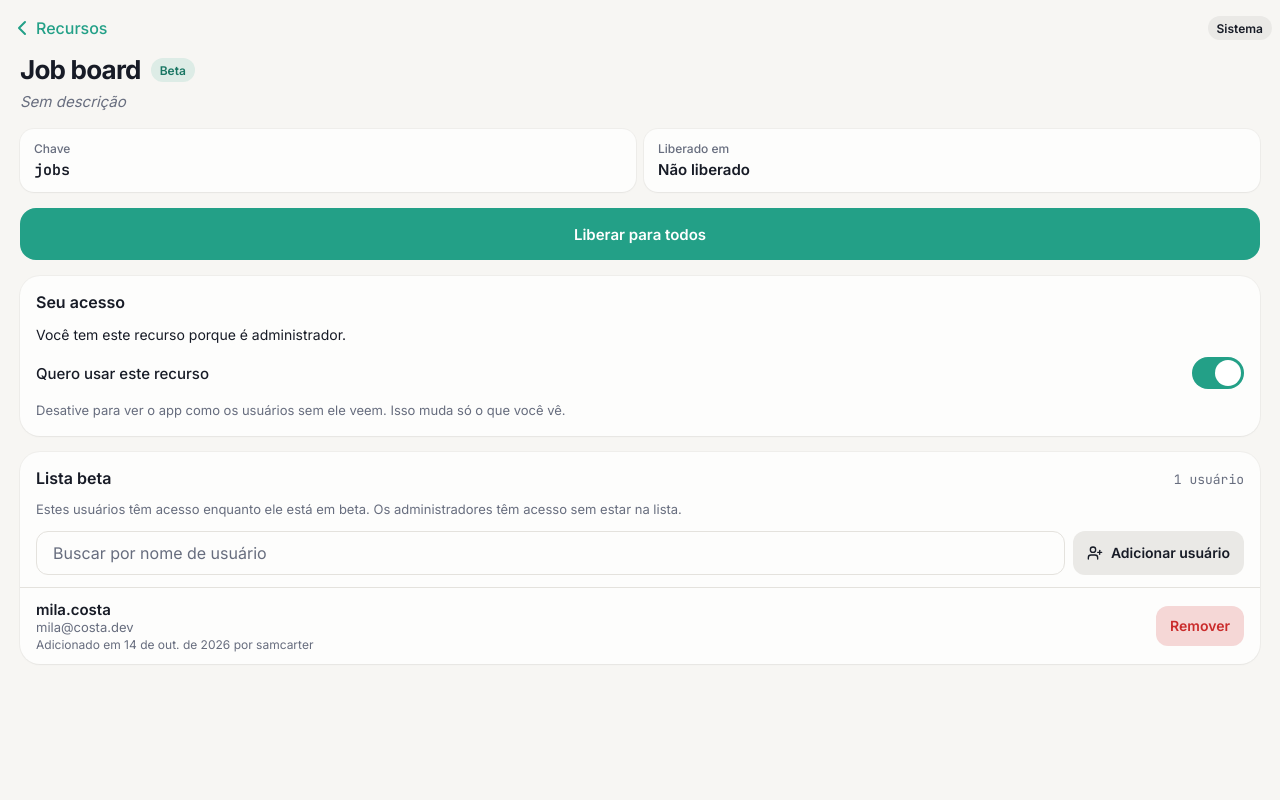
Test: the v3 admin boards in Portuguese below md › a feature, with the stage, remove and Add user sheets open
Expected: the heading "Job board" is shown, [20,56,141,85]
Expected: the text "mila.costa" is shown, [36,600,111,619]
Click the button "Liberar para todos".
click(640, 234)  # box [20,208,1260,260]
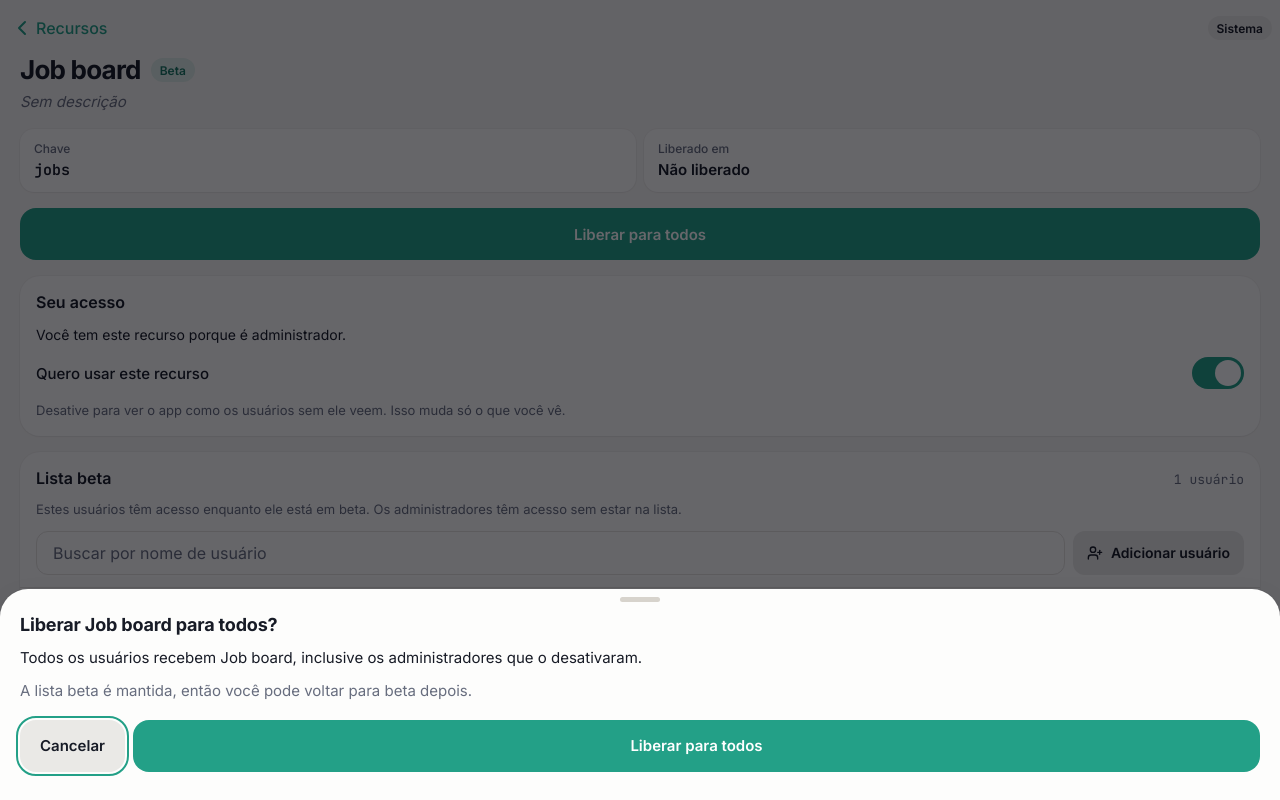
Click the button "Cancelar".
click(72, 746)  # box [20,720,125,772]
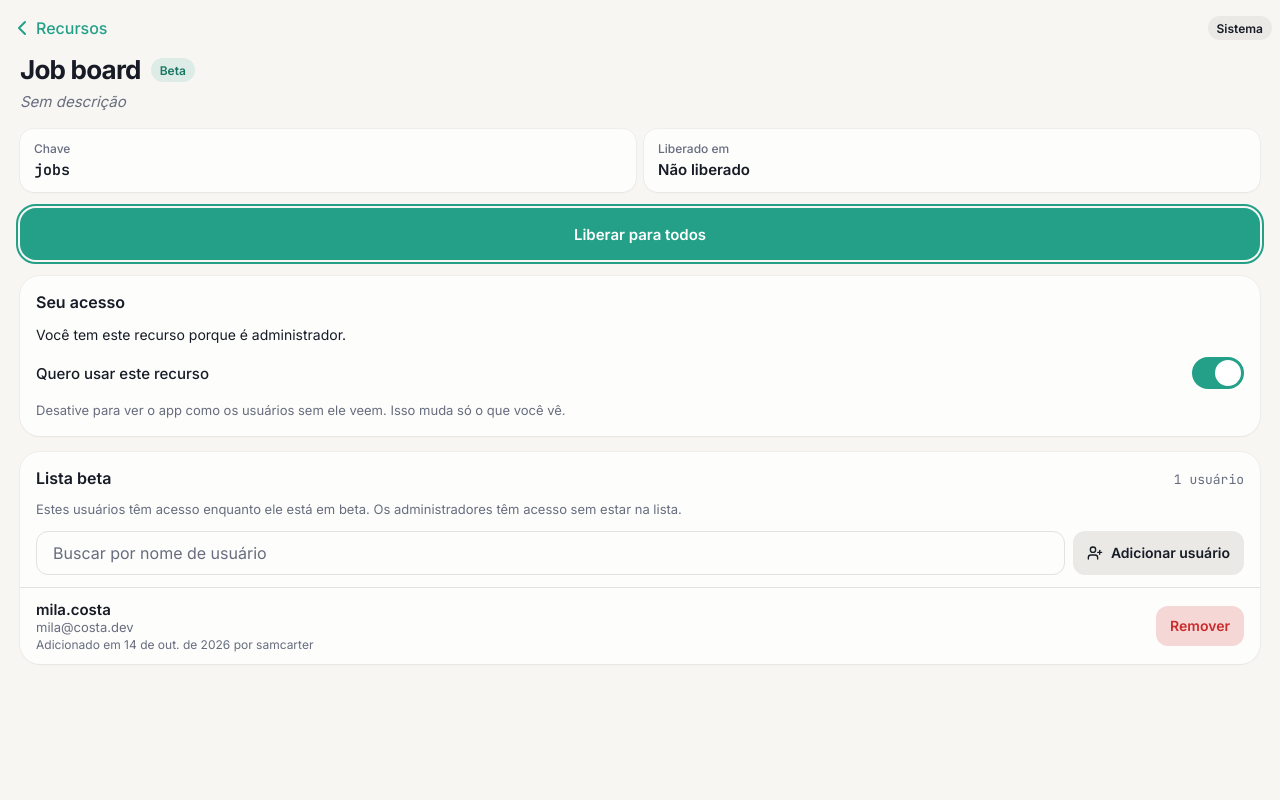
Expected: the dialog is gone
Click the button with aria-label "Remover mila.costa".
click(1200, 626)  # box [1156,604,1244,648]
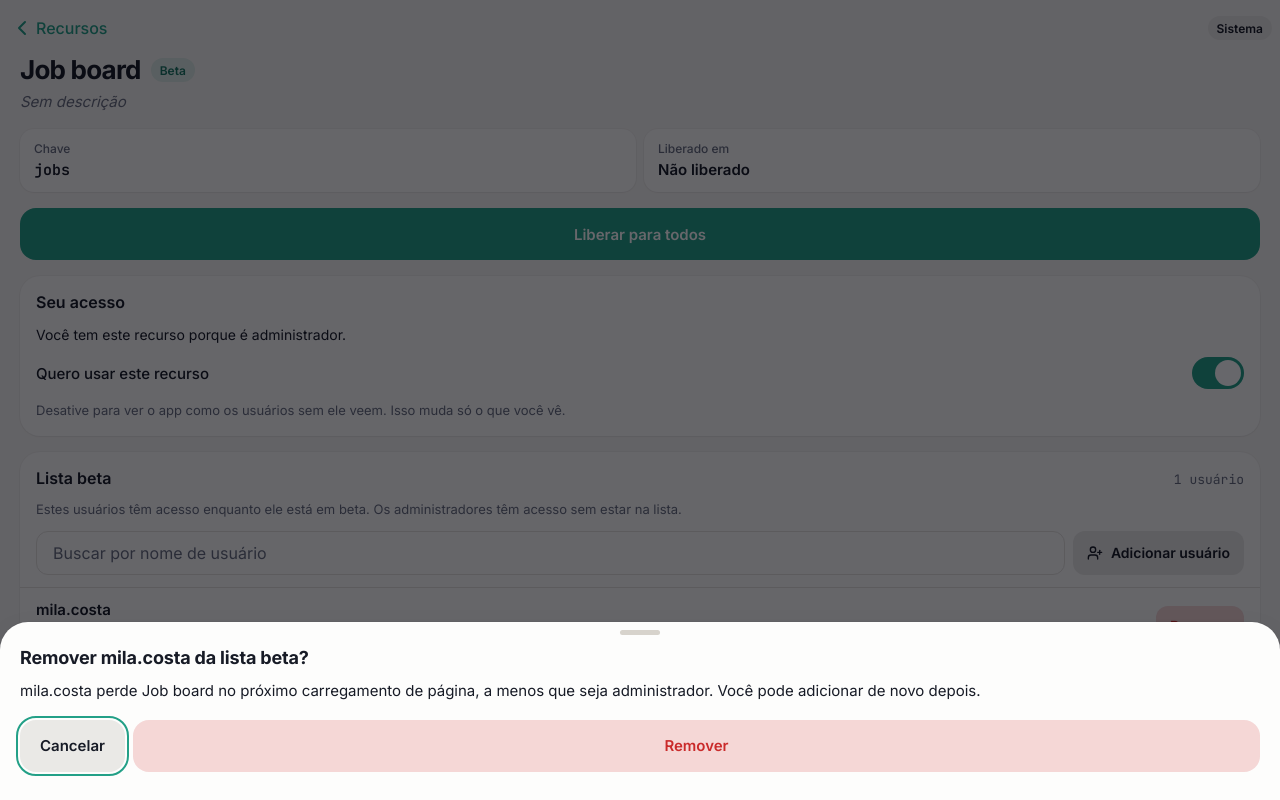
Expected: the button "Remover" is shown, [133,720,1260,772]
Click the button "Cancelar".
click(72, 746)  # box [20,720,125,772]
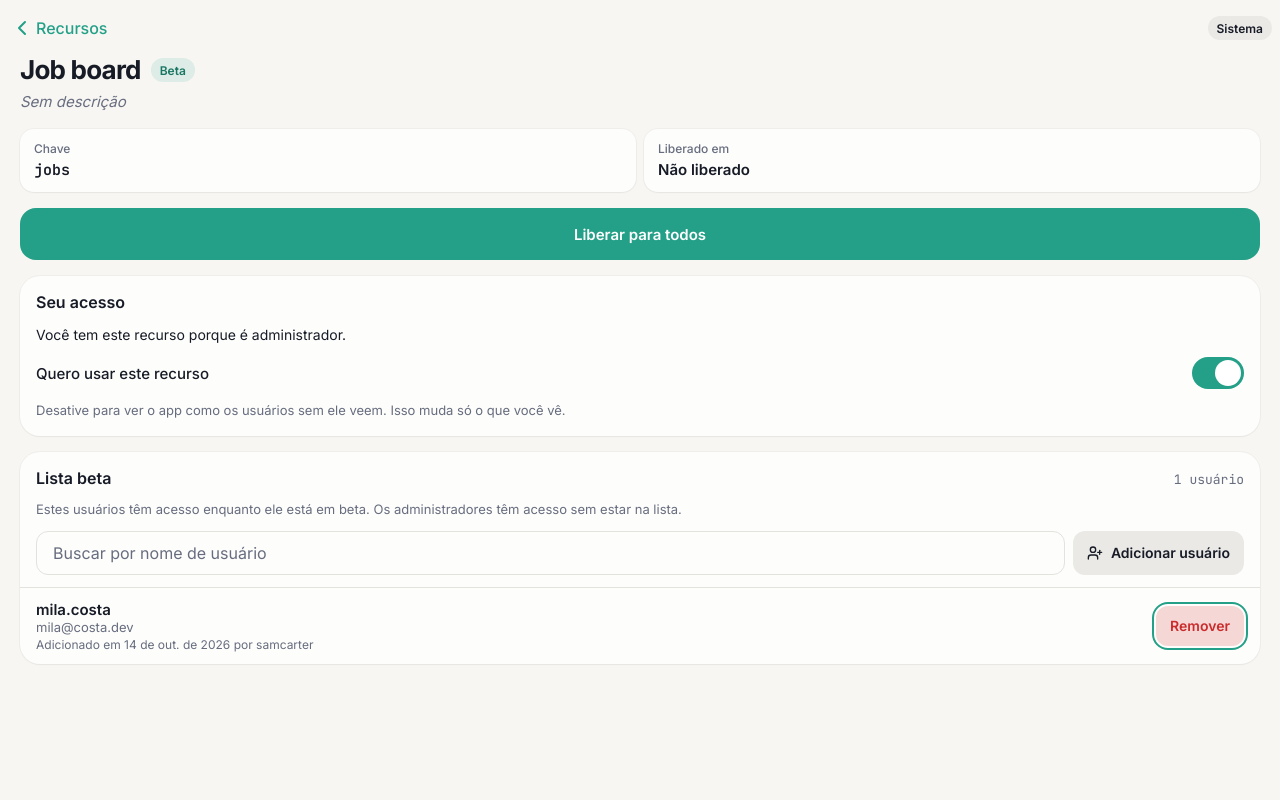
Expected: the dialog is gone
Click the button "Adicionar usuário".
click(1158, 553)  # box [1073,531,1244,575]
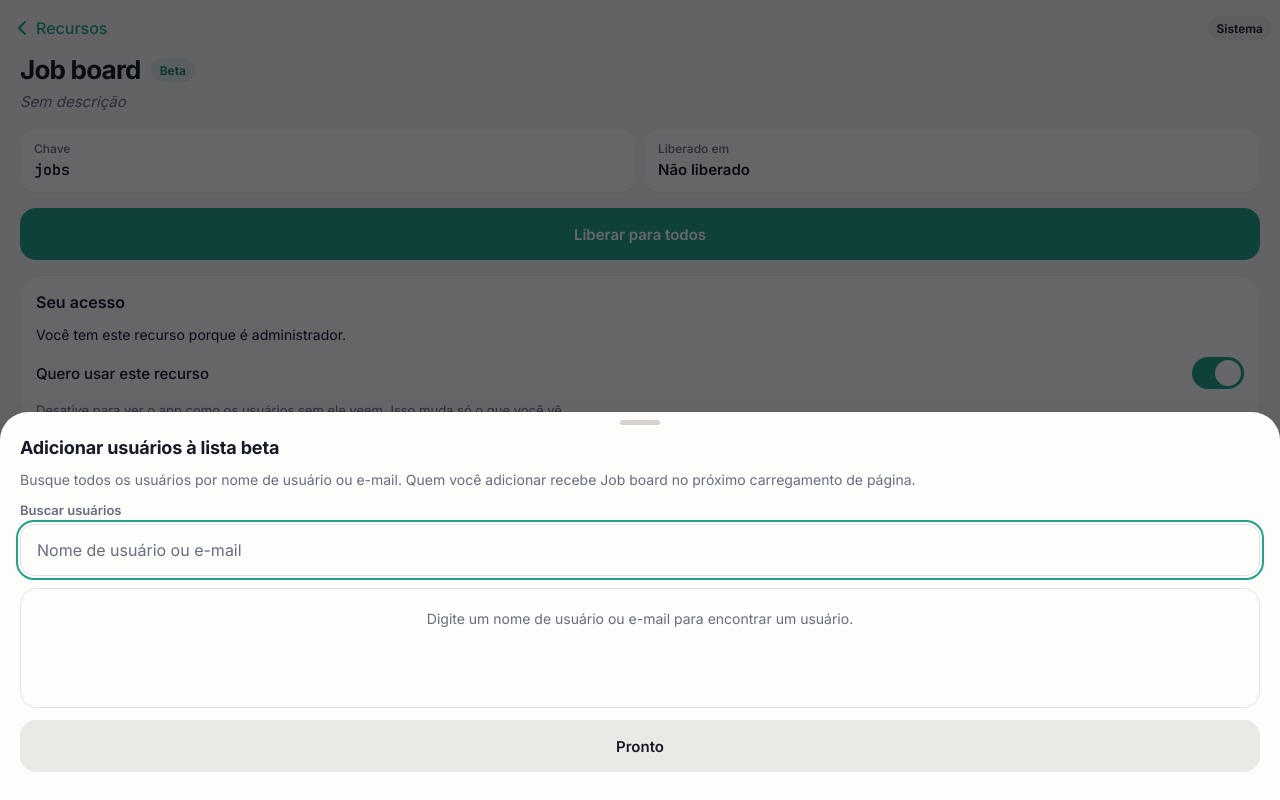
Expected: the text "Digite um nome de usuário ou e-mail para encontrar um usuário." is shown, [427,610,853,627]
Type "sam" into the search field labelled "Buscar usuários".
click(640, 550); type("sam")  # box [20,524,1260,576]
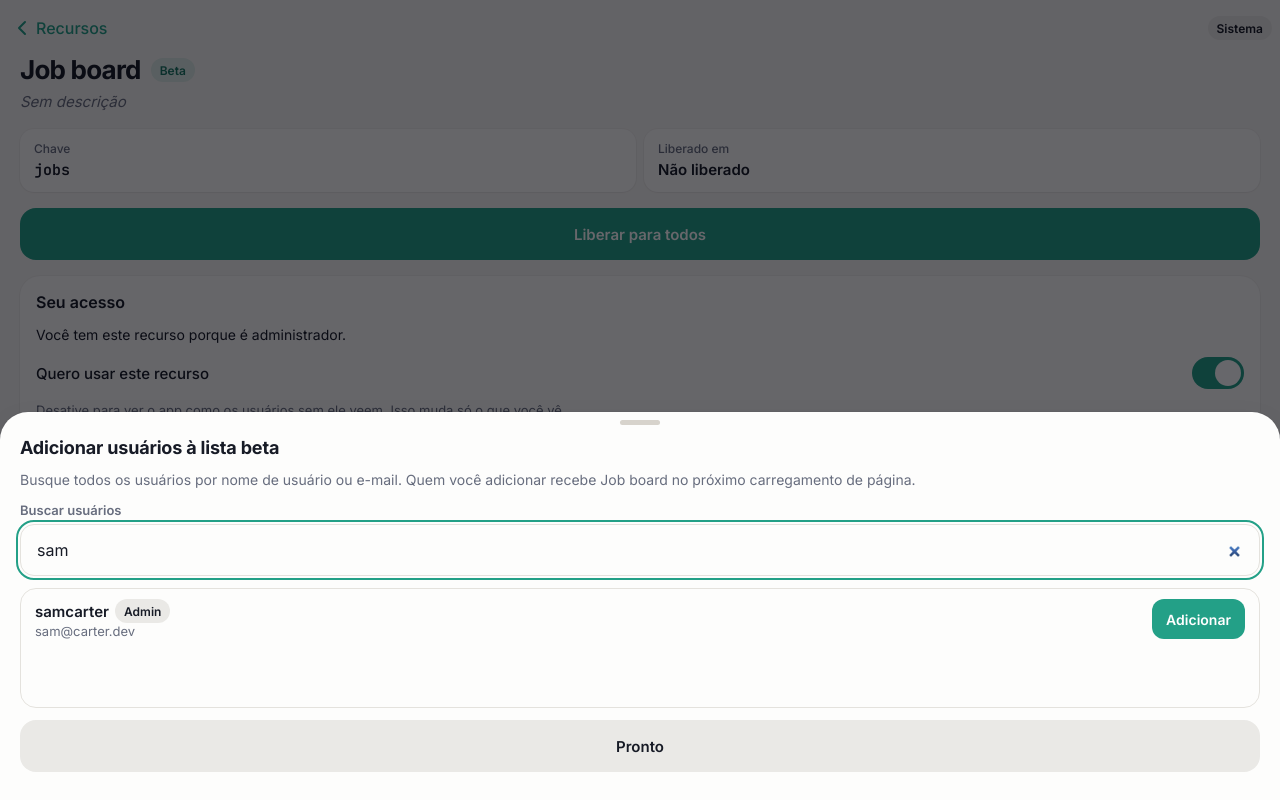
Expected: the button "Pronto" is shown, [20,720,1260,772]
Expected: the button with aria-label "Adicionar samcarter" reads "Adicionar", [1152,597,1245,641]
Expected: the text "Admin" is shown, [124,604,161,618]
